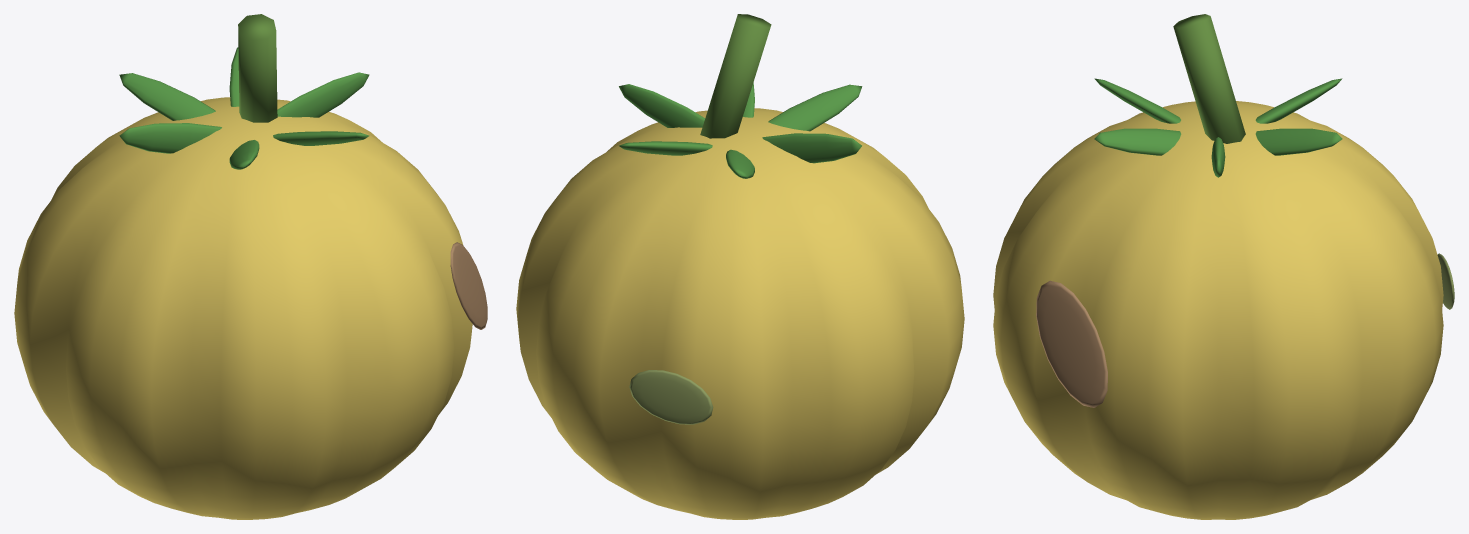
The model's file is tomato_lite_diseased.glb.
3 views of the same model, side by side, from view 1: azimuth 30°, elevation 25°; view 2: azimuth 150°, elevation 25°; view 3: azimuth 270°, elevation 25° (orthographic). The views are drawn at different scales.
Visible parts, largest first — view 1: grooved_tomato_body, stem, sepal.002, sepal.003, diseased_patch_0, sepal, sepal.005, sepal.004; view 2: grooved_tomato_body, stem, diseased_patch_1, sepal.004, sepal.003, sepal, sepal.001, sepal.002; view 3: grooved_tomato_body, diseased_patch_0, stem, sepal.005, sepal.001, sepal.002, sepal.004, diseased_patch_1.
Part boxes in pixels (box(x1,y1,x2,y2)): grooved_tomato_body: box(14, 97, 472, 519); stem: box(238, 14, 277, 122); sepal.002: box(119, 73, 215, 120); sepal.003: box(119, 123, 221, 153); diseased_patch_0: box(450, 242, 487, 329); sepal: box(277, 72, 369, 117); sepal.005: box(273, 131, 369, 145); sepal.004: box(229, 140, 259, 169); grooved_tomato_body: box(516, 108, 964, 519); stem: box(700, 14, 771, 138); diseased_patch_1: box(629, 370, 713, 424); sepal.004: box(768, 84, 862, 131); sepal.003: box(762, 133, 861, 163); sepal: box(619, 84, 705, 127); sepal.001: box(619, 141, 712, 155); sepal.002: box(726, 149, 754, 178); grooved_tomato_body: box(993, 101, 1443, 519); diseased_patch_0: box(1036, 280, 1107, 407); stem: box(1173, 14, 1245, 143); sepal.005: box(1094, 128, 1181, 155); sepal.001: box(1255, 128, 1342, 155); sepal.002: box(1255, 78, 1342, 123); sepal.004: box(1094, 78, 1180, 123); diseased_patch_1: box(1437, 253, 1454, 309).
Size of the model in its own units: 1.97 by 2.32 by 2.02.
